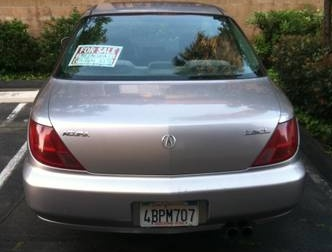acura: (15, 3, 308, 241)
